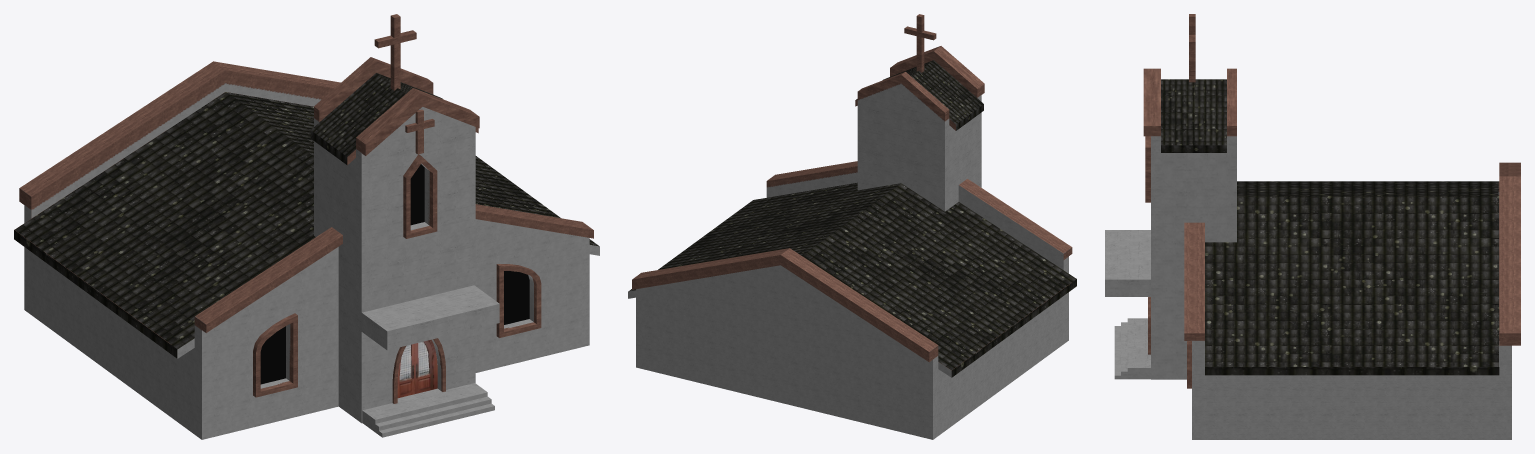
File: Church.fbx
3 renders of one model, left to right at view 1: azimuth 30°, elevation 25°; view 2: azimuth 150°, elevation 25°; view 3: azimuth 270°, elevation 25°, orthographic. The views are drawn at different scales.
Visible parts, largest first — view 1: Church.004; view 2: Church.004; view 3: Church.004.
Part boxes in pixels (x1=…): Church.004: x1=14, y1=14, x2=599, y2=439; Church.004: x1=628, y1=14, x2=1076, y2=439; Church.004: x1=1105, y1=14, x2=1520, y2=439.
Bounding box in the file's own units: 2301 × 1960 × 2177.
1 material, 1 textured.
